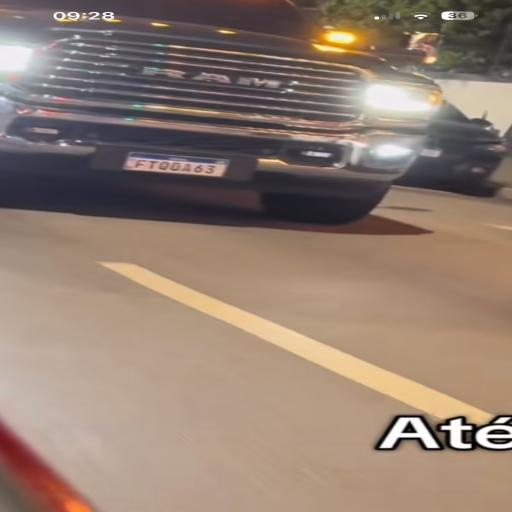detec-o-placas: (57, 87, 297, 237)
